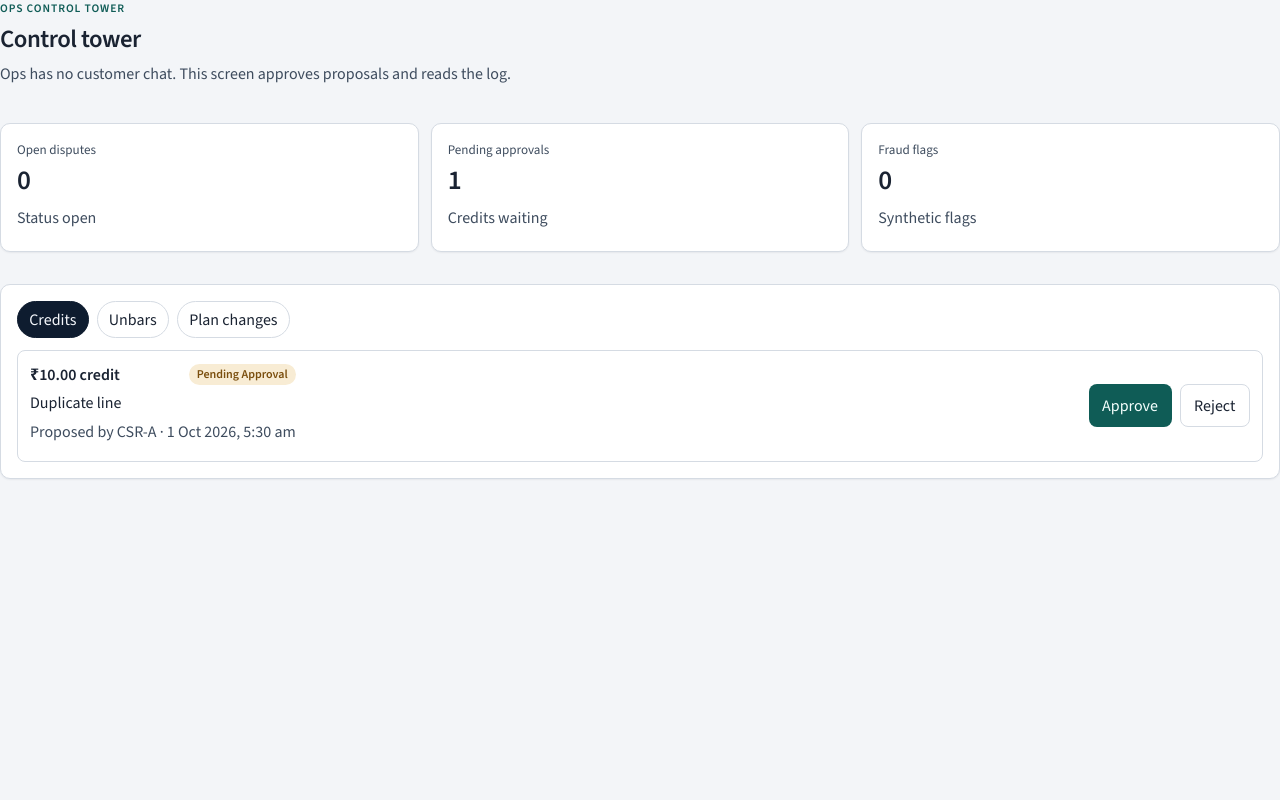
Scenario: shared controls › approves a credit only after confirmation
Step 1. Click the button "Approve" → (1130, 406), box [1088,384,1172,427]
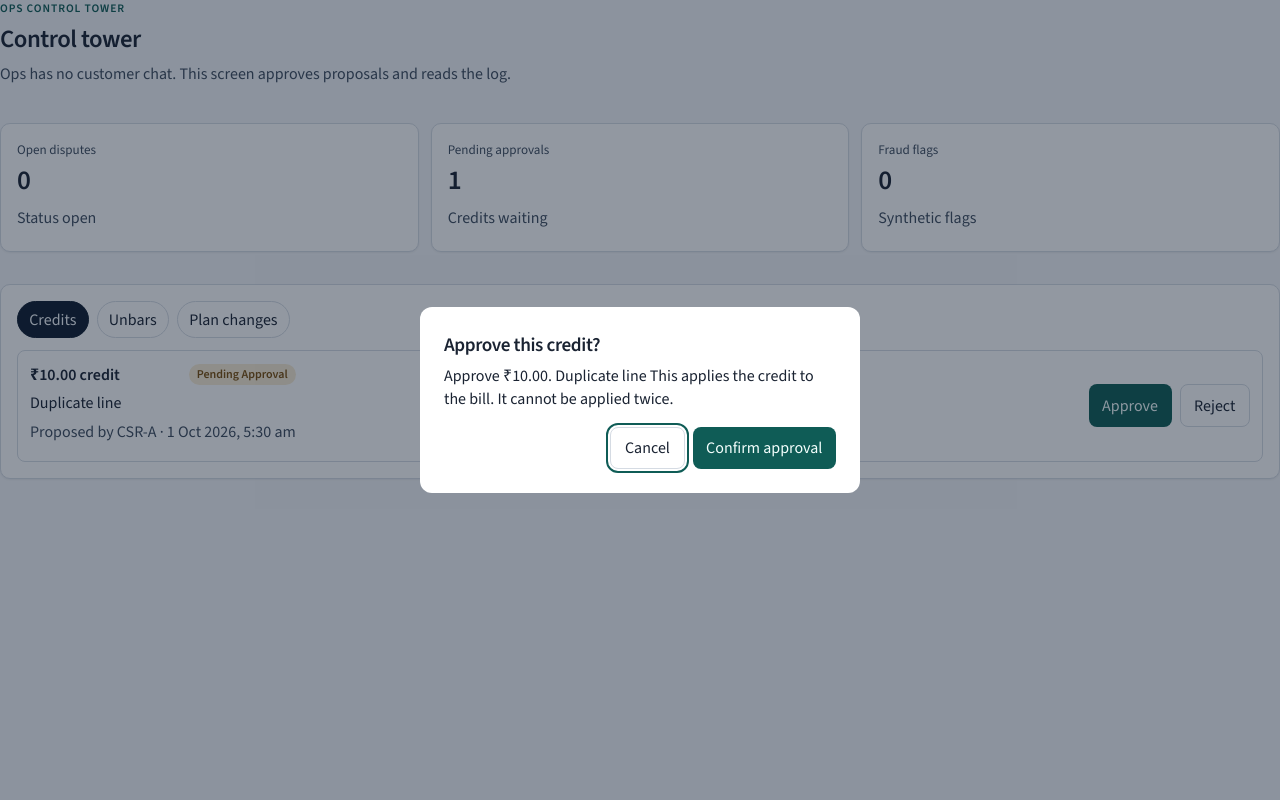
Step 2. Click the button "Confirm approval" → (764, 448), box [692,426,836,469]
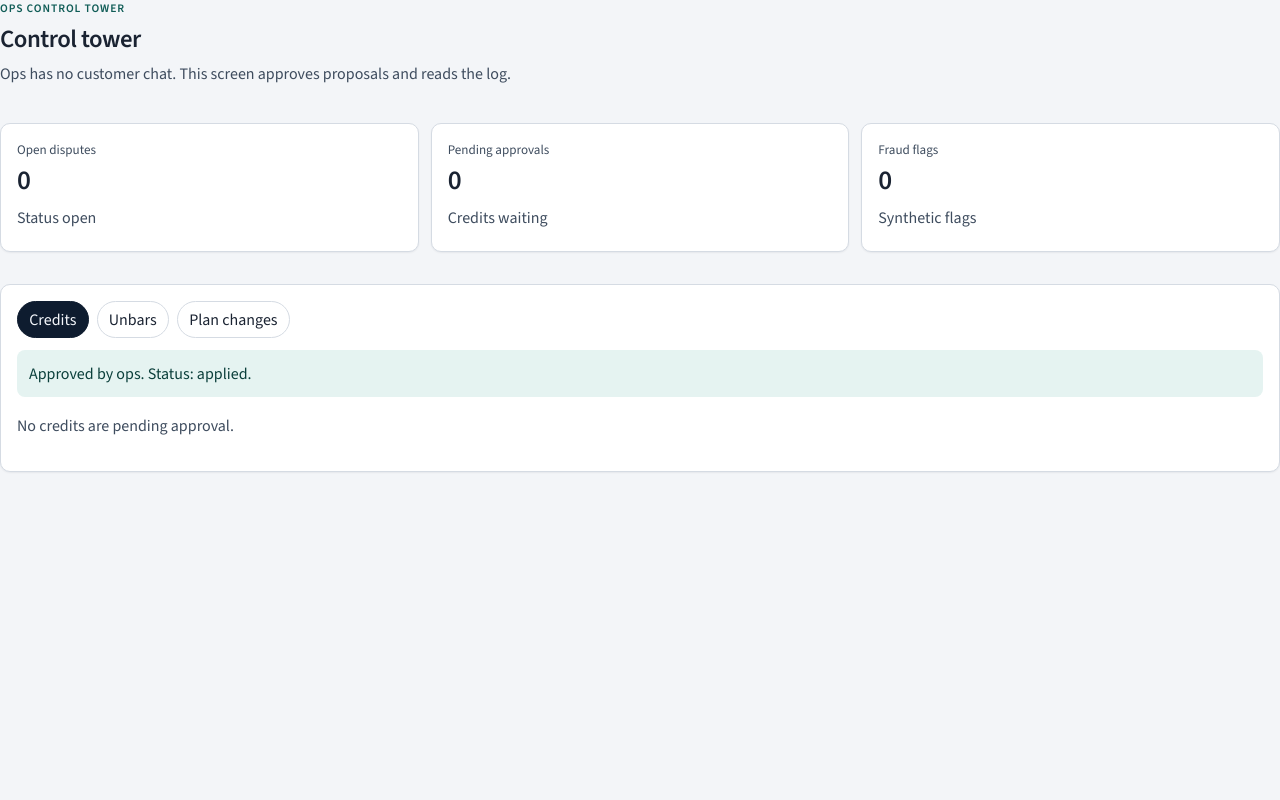
Now the text "Approved by ops. Status: applied." is shown, box [17,350,1263,397]
